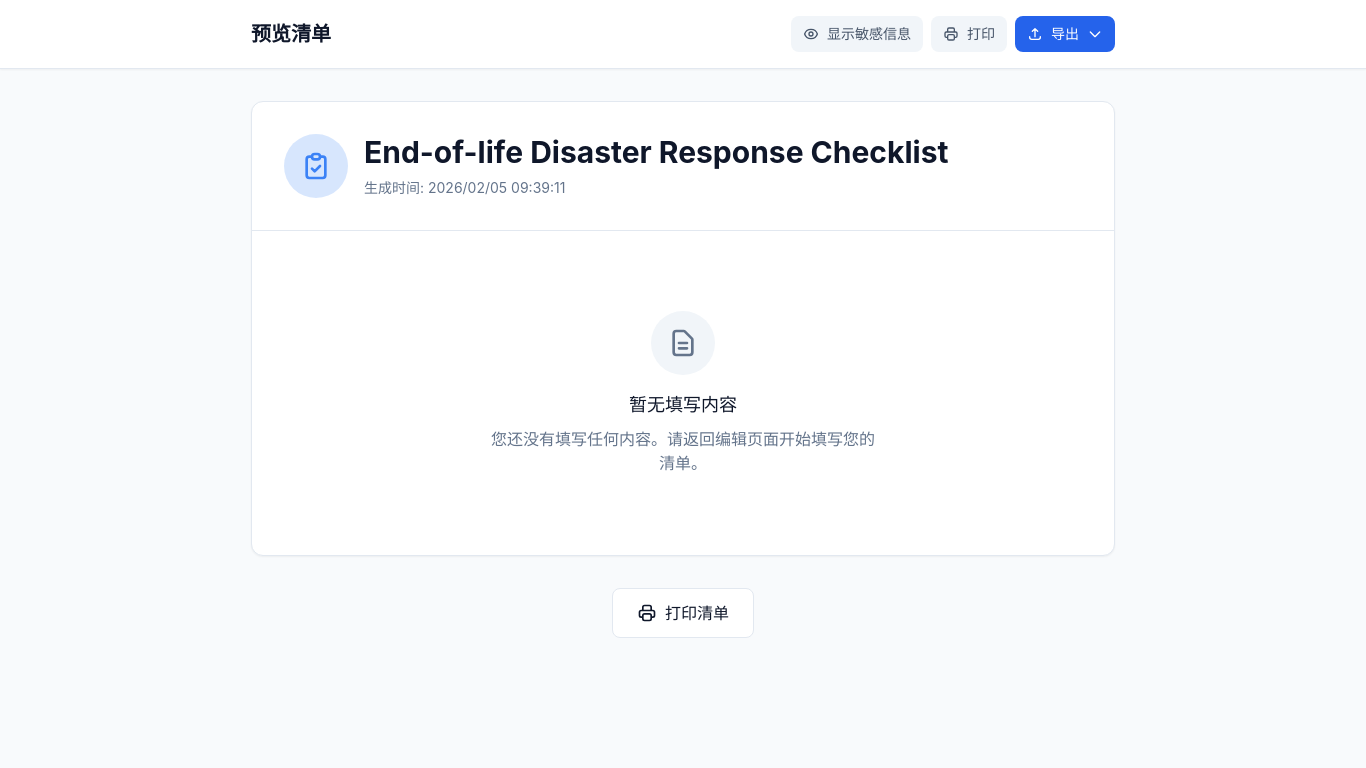
PreviewPage › Requirement 5.4: Export to JSON › should show export menu when export button is clicked
Click the button "导出".
click(1065, 34)  # box [1015, 16, 1115, 52]
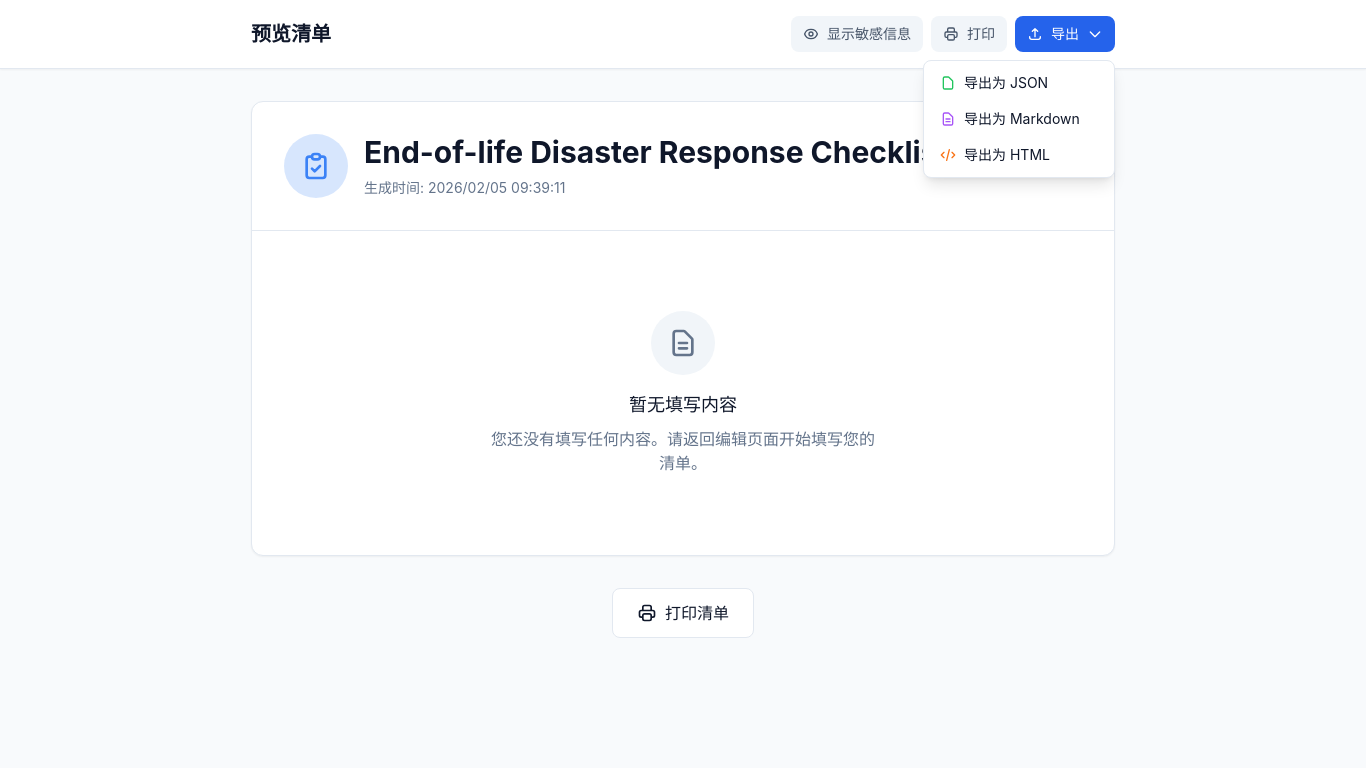
Expected: the menu named "导出选项" is shown, [923, 60, 1115, 178]
